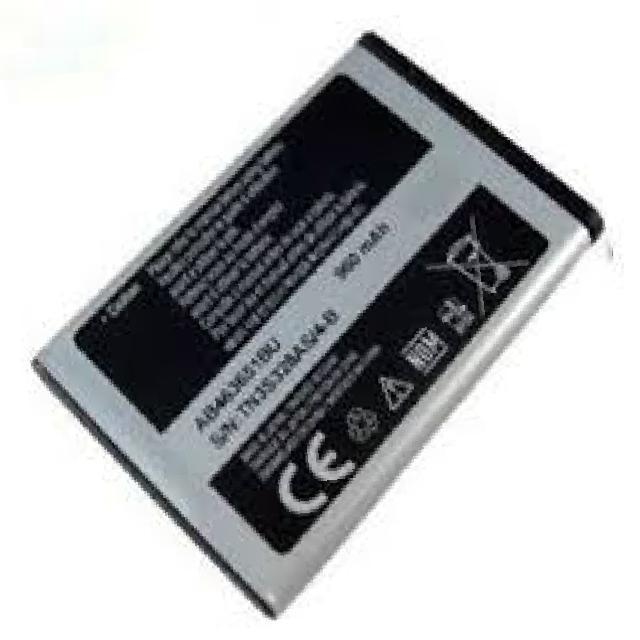Battery: (28, 6, 618, 639)
